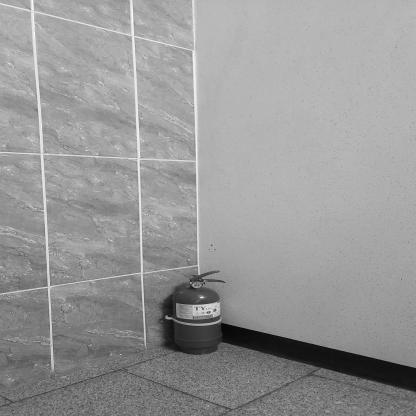FE: (171, 270, 226, 354)
